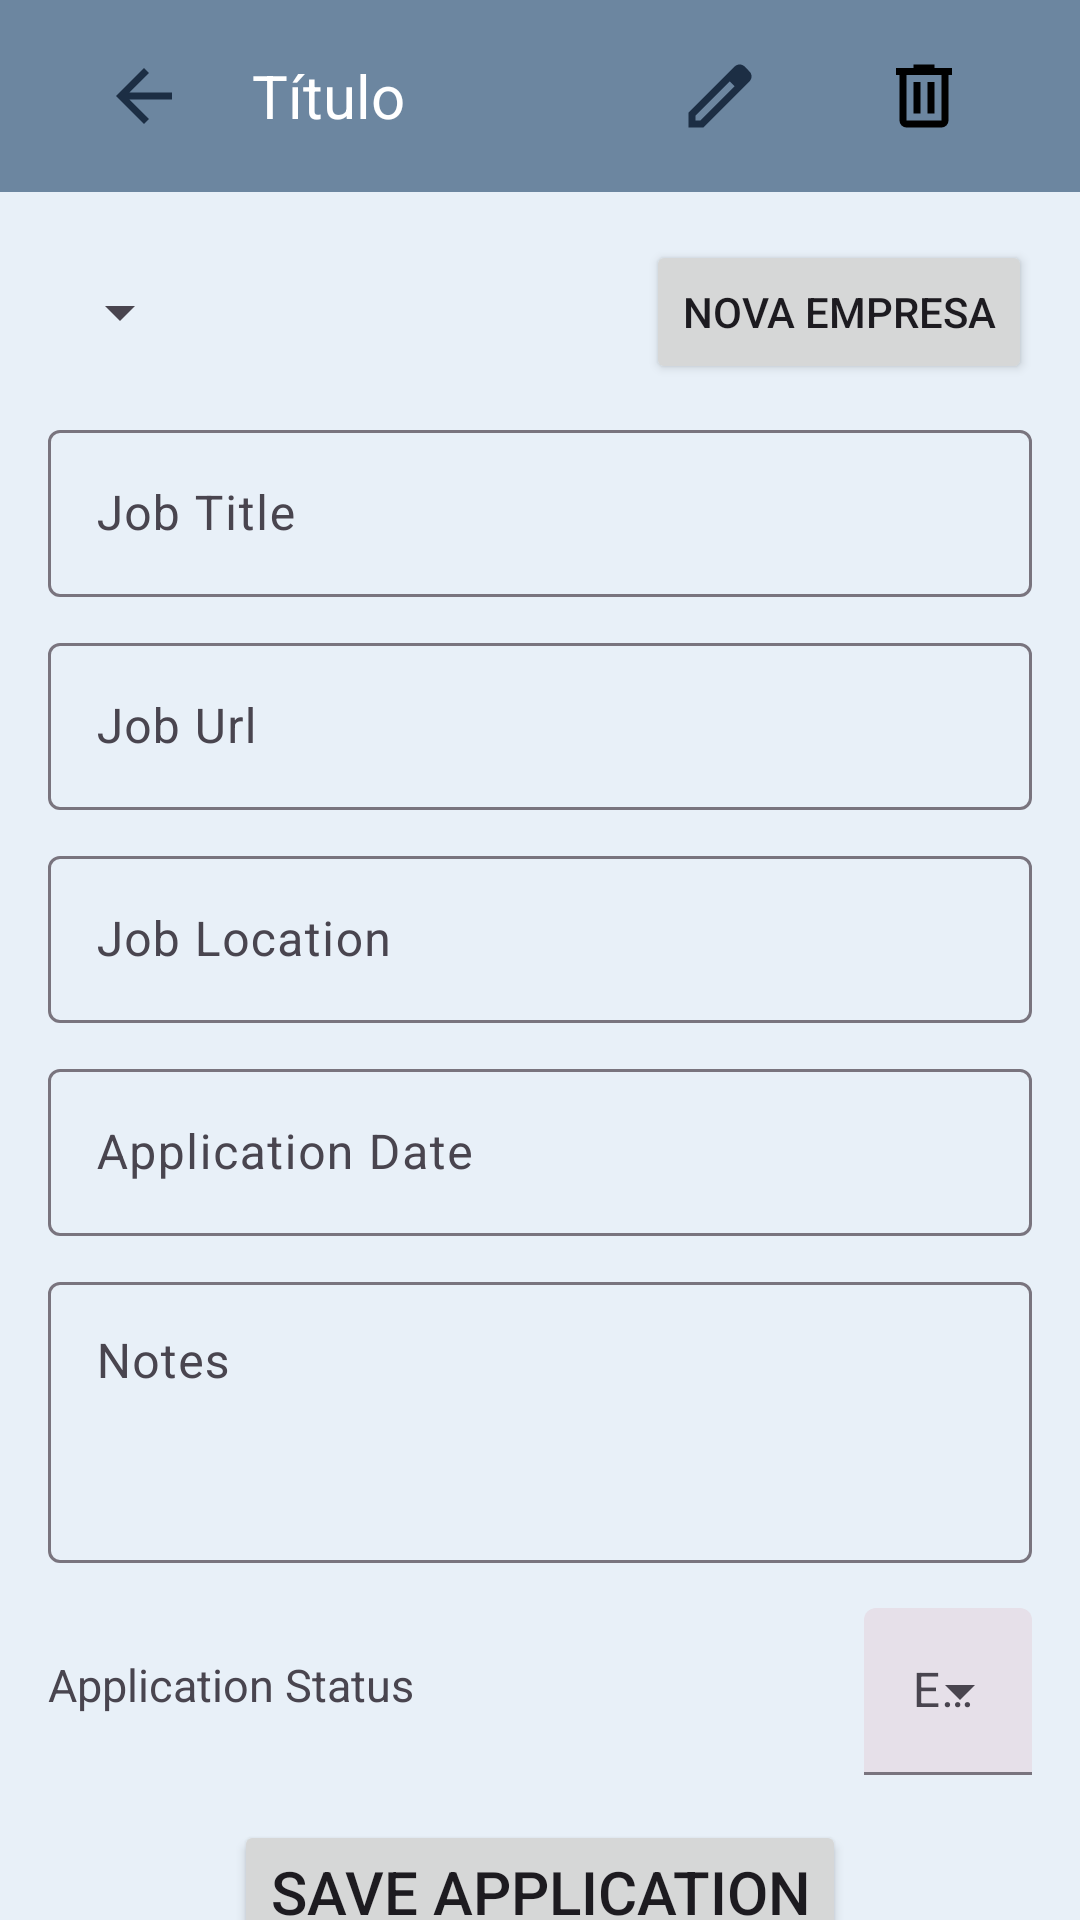

Icons on this 1080×1920 Android screen, each with the point to tap as (x=x, y=y):
Apagar: (x=924, y=96)
Editar: (x=720, y=96)
Voltar: (x=144, y=96)
